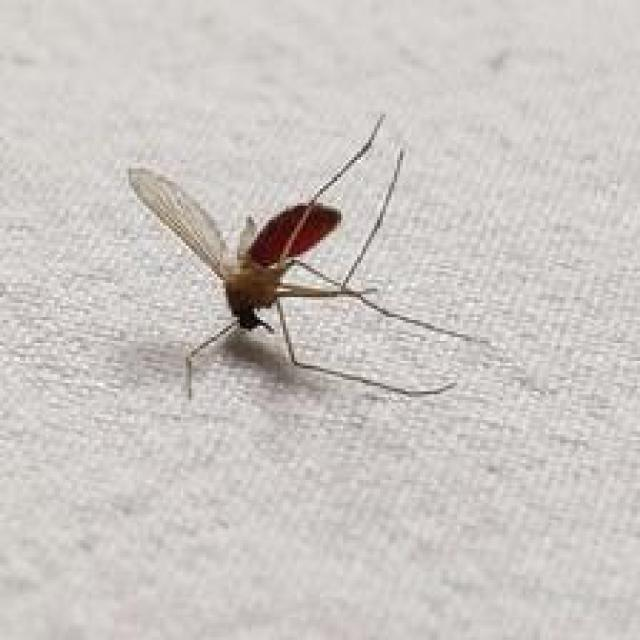Culex: (124, 111, 504, 403)
